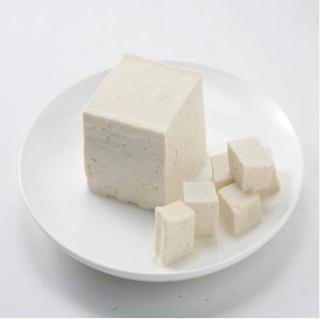Tahu: (37, 62, 290, 266)
